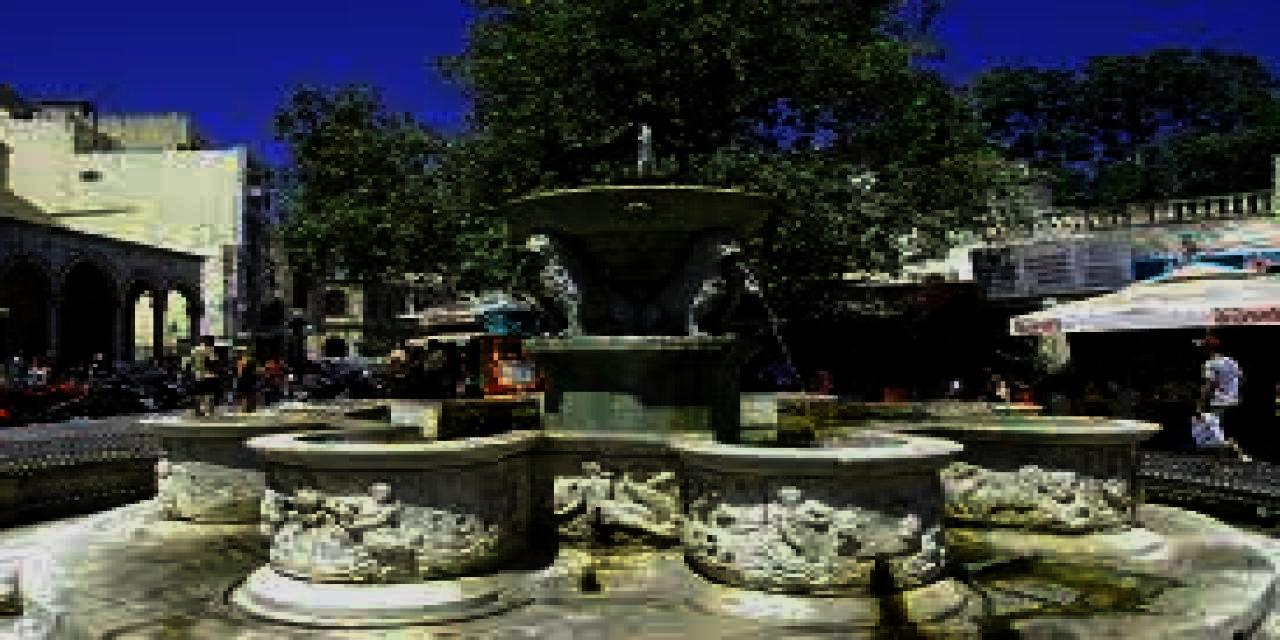Liontaria: (138, 168, 1159, 621)
